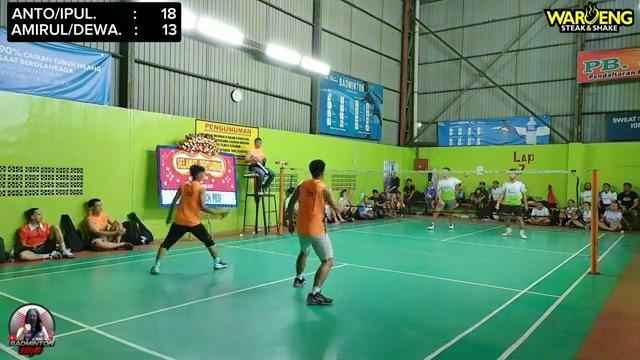Shuttlecock: (414, 118, 426, 132)
